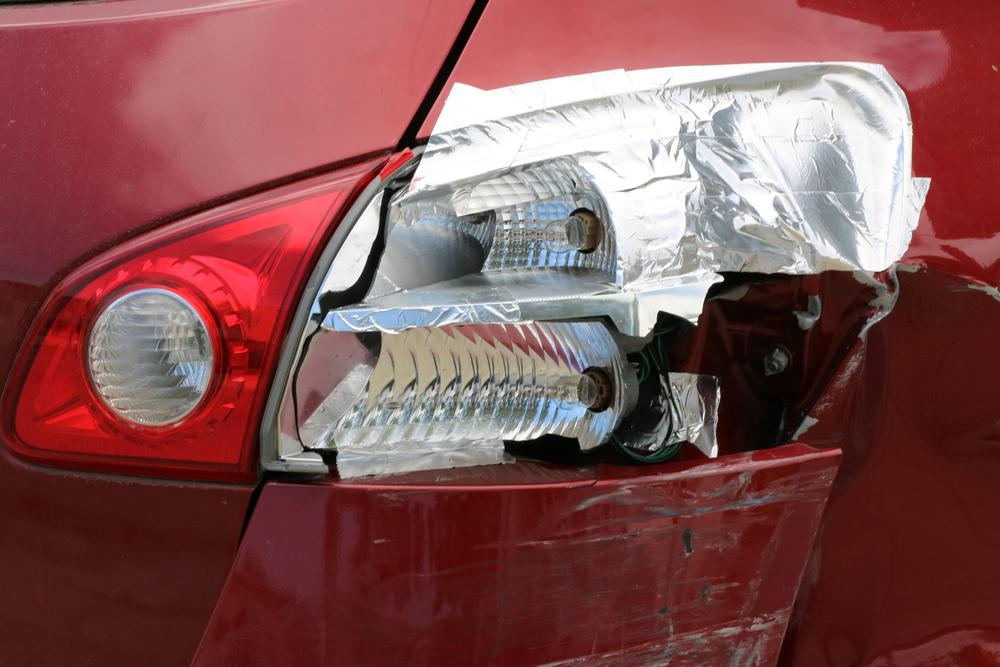lamp broken: (270, 72, 895, 482)
scratch: (516, 464, 837, 667)
